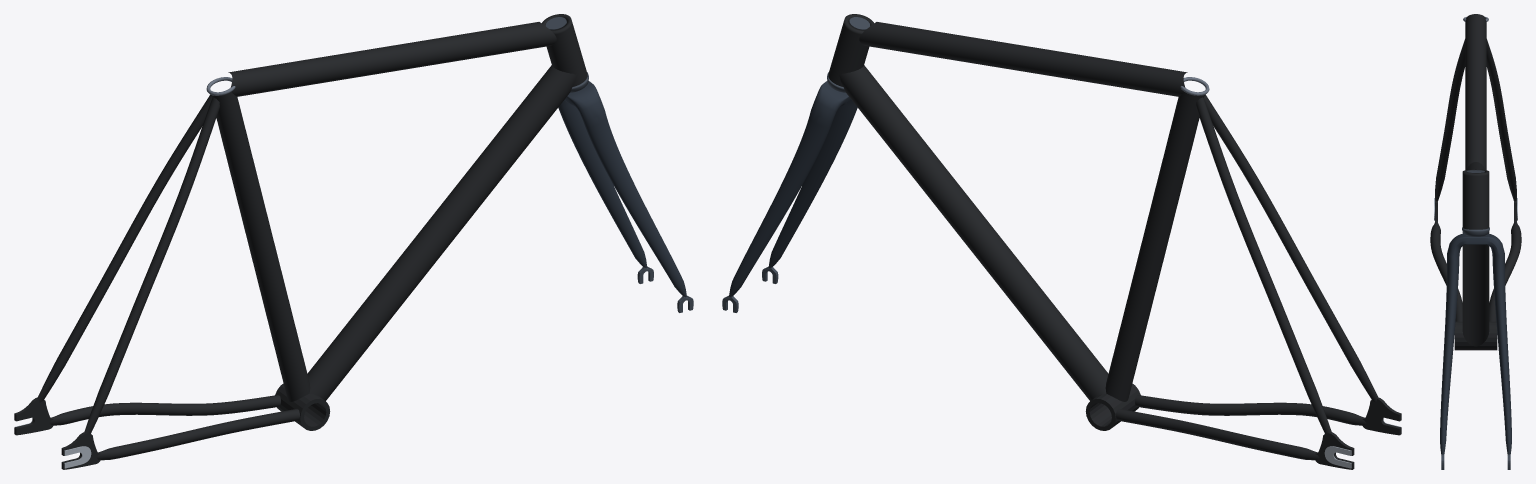
The model's file is dosnoventa-03-det-s.glb.
The picture shows the model from 3 angles, left to right: view 1: azimuth 30°, elevation 25°; view 2: azimuth 150°, elevation 25°; view 3: azimuth 270°, elevation 25°; orthographic projection. The views are drawn at different scales.
Visible parts, largest first — view 1: paint_down, paint_top, paint_seat, paint_seatstay_1, paint_seatstay_-1, fork_blade_1, fork_blade_-1, paint_chainstay_-1, paint_chainstay_1, paint_head, paint_bottom_bracket, rear_dropout_-1 (+1 smaller); view 2: paint_down, paint_top, paint_seat, paint_seatstay_-1, paint_seatstay_1, fork_blade_-1, fork_blade_1, paint_chainstay_1, paint_chainstay_-1, paint_head, paint_bottom_bracket, rear_dropout_1 (+1 smaller); view 3: paint_top, paint_down, fork_blade_1, fork_blade_-1, paint_head, paint_seatstay_1, paint_seatstay_-1, fork_crown, paint_chainstay_-1, paint_chainstay_1, paint_bottom_bracket, fork_headset_lower (+1 smaller).
Boxes of the visible parts, x1=… form: paint_down: x1=307, y1=65, x2=576, y2=401; paint_top: x1=228, y1=22, x2=556, y2=96; paint_seat: x1=211, y1=92, x2=310, y2=401; paint_seatstay_1: x1=84, y1=97, x2=219, y2=433; paint_seatstay_-1: x1=37, y1=94, x2=212, y2=402; fork_blade_1: x1=583, y1=110, x2=686, y2=297; fork_blade_-1: x1=558, y1=100, x2=647, y2=268; paint_chainstay_-1: x1=49, y1=395, x2=280, y2=425; paint_chainstay_1: x1=96, y1=409, x2=299, y2=460; paint_head: x1=541, y1=14, x2=587, y2=86; paint_bottom_bracket: x1=275, y1=383, x2=330, y2=430; rear_dropout_-1: x1=14, y1=397, x2=53, y2=435; paint_down: x1=839, y1=65, x2=1108, y2=401; paint_top: x1=859, y1=22, x2=1187, y2=96; paint_seat: x1=1105, y1=92, x2=1204, y2=401; paint_seatstay_-1: x1=1196, y1=97, x2=1331, y2=433; paint_seatstay_1: x1=1203, y1=94, x2=1378, y2=402; fork_blade_-1: x1=729, y1=110, x2=832, y2=297; fork_blade_1: x1=768, y1=100, x2=857, y2=268; paint_chainstay_1: x1=1135, y1=395, x2=1366, y2=425; paint_chainstay_-1: x1=1116, y1=409, x2=1319, y2=460; paint_head: x1=828, y1=14, x2=874, y2=86; paint_bottom_bracket: x1=1085, y1=383, x2=1140, y2=430; rear_dropout_1: x1=1362, y1=397, x2=1401, y2=435; paint_top: x1=1465, y1=14, x2=1486, y2=170; paint_down: x1=1462, y1=232, x2=1489, y2=346; fork_blade_1: x1=1440, y1=254, x2=1459, y2=454; fork_blade_-1: x1=1492, y1=254, x2=1511, y2=454; paint_head: x1=1462, y1=169, x2=1489, y2=229; paint_seatstay_1: x1=1435, y1=39, x2=1465, y2=201; paint_seatstay_-1: x1=1486, y1=39, x2=1516, y2=201; fork_crown: x1=1447, y1=233, x2=1504, y2=255; paint_chainstay_-1: x1=1489, y1=221, x2=1521, y2=321; paint_chainstay_1: x1=1430, y1=221, x2=1462, y2=321; paint_bottom_bracket: x1=1454, y1=321, x2=1497, y2=350; fork_headset_lower: x1=1462, y1=227, x2=1489, y2=236.
Bounding box in the file's own units: 0.9694 × 0.5339 × 0.1443.
